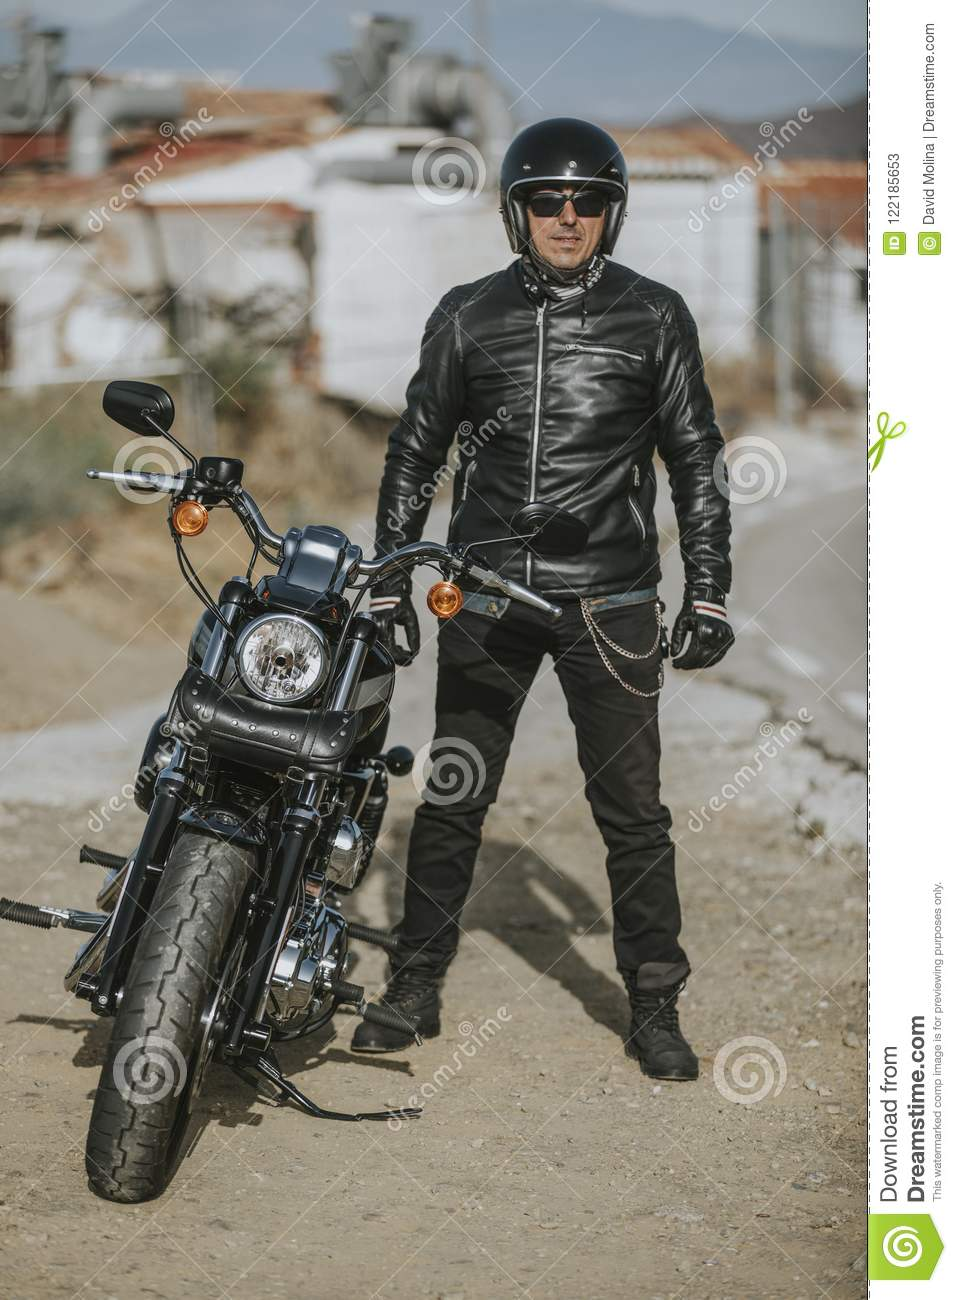helmet: (482, 105, 630, 270)
